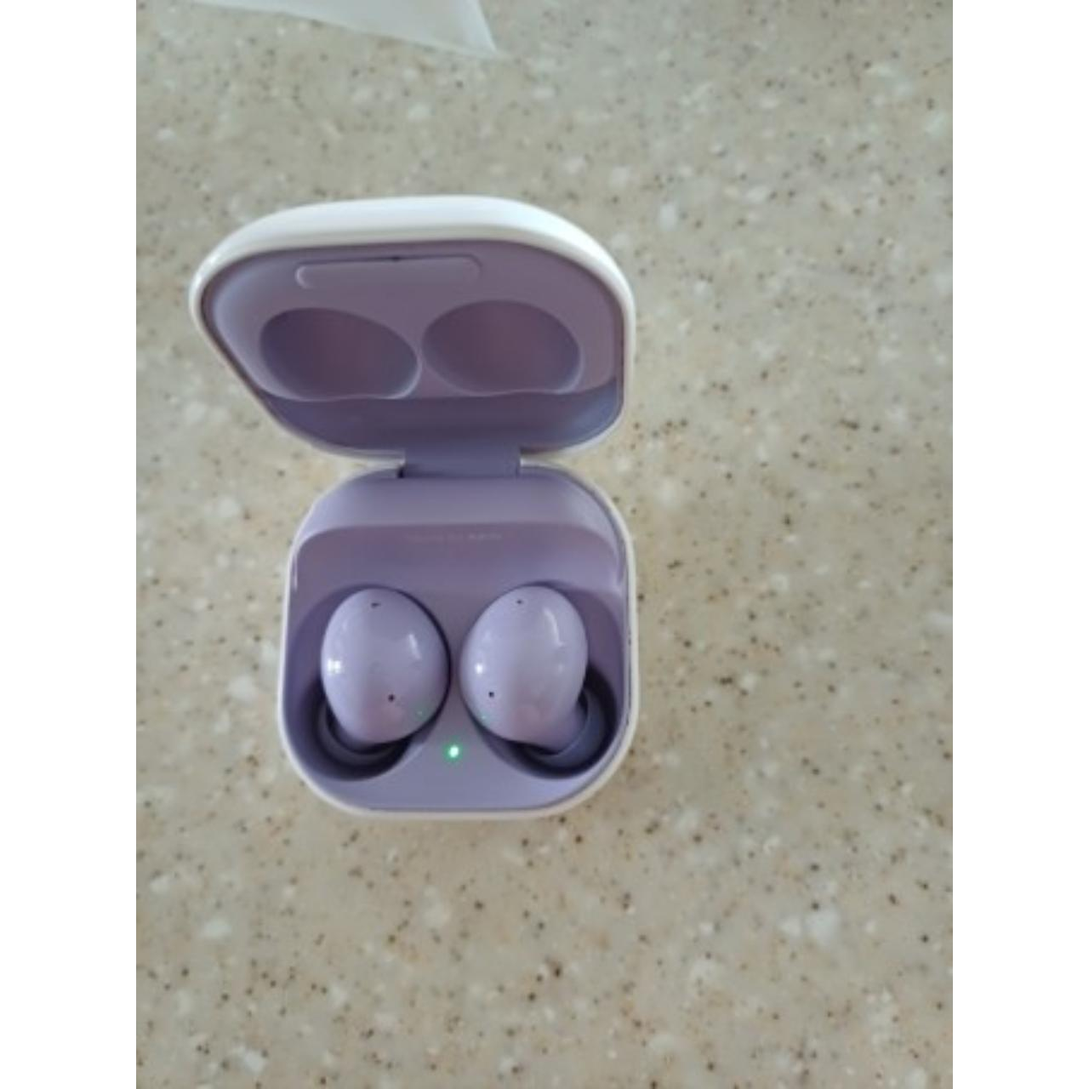Buds: (184, 191, 644, 833)
Buds_Units: (460, 581, 619, 779), (303, 579, 454, 784)
